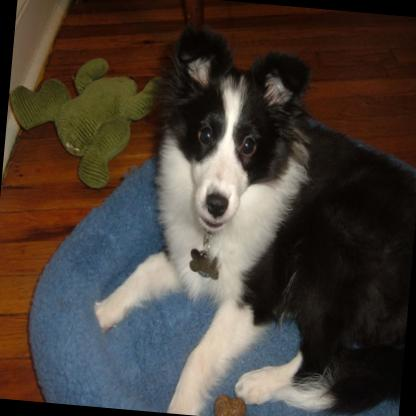Shetland_sheepdog: (82, 14, 416, 416)
